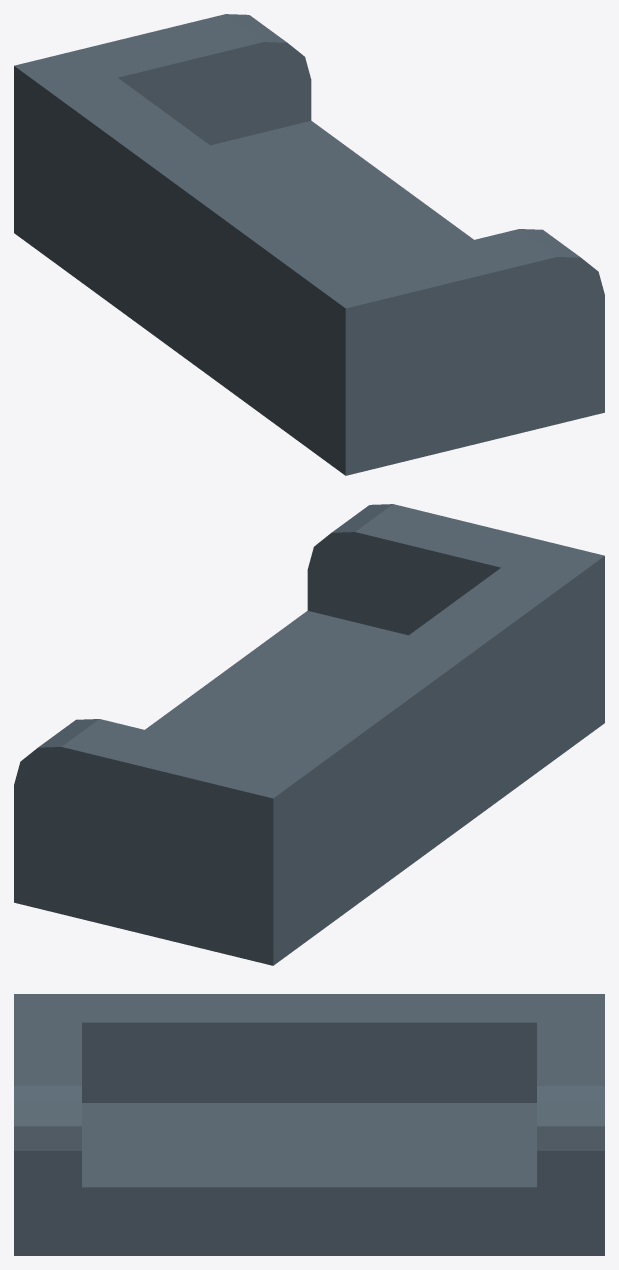
File: Couch.glb
3 renders of one model, top to bottom at view 1: azimuth 30°, elevation 25°; view 2: azimuth 150°, elevation 25°; view 3: azimuth 270°, elevation 25°, orthographic. The views are drawn at different scales.
Parts seen in each view (by area): view 1: Cube; view 2: Cube; view 3: Cube.
Boxes of the visible parts, box(x1,y1,x2,y2) form: Cube: box(14, 14, 604, 475); Cube: box(14, 504, 604, 965); Cube: box(14, 994, 604, 1255).
Bounding box in the file's own units: 1.46 × 0.902 × 3.24.
